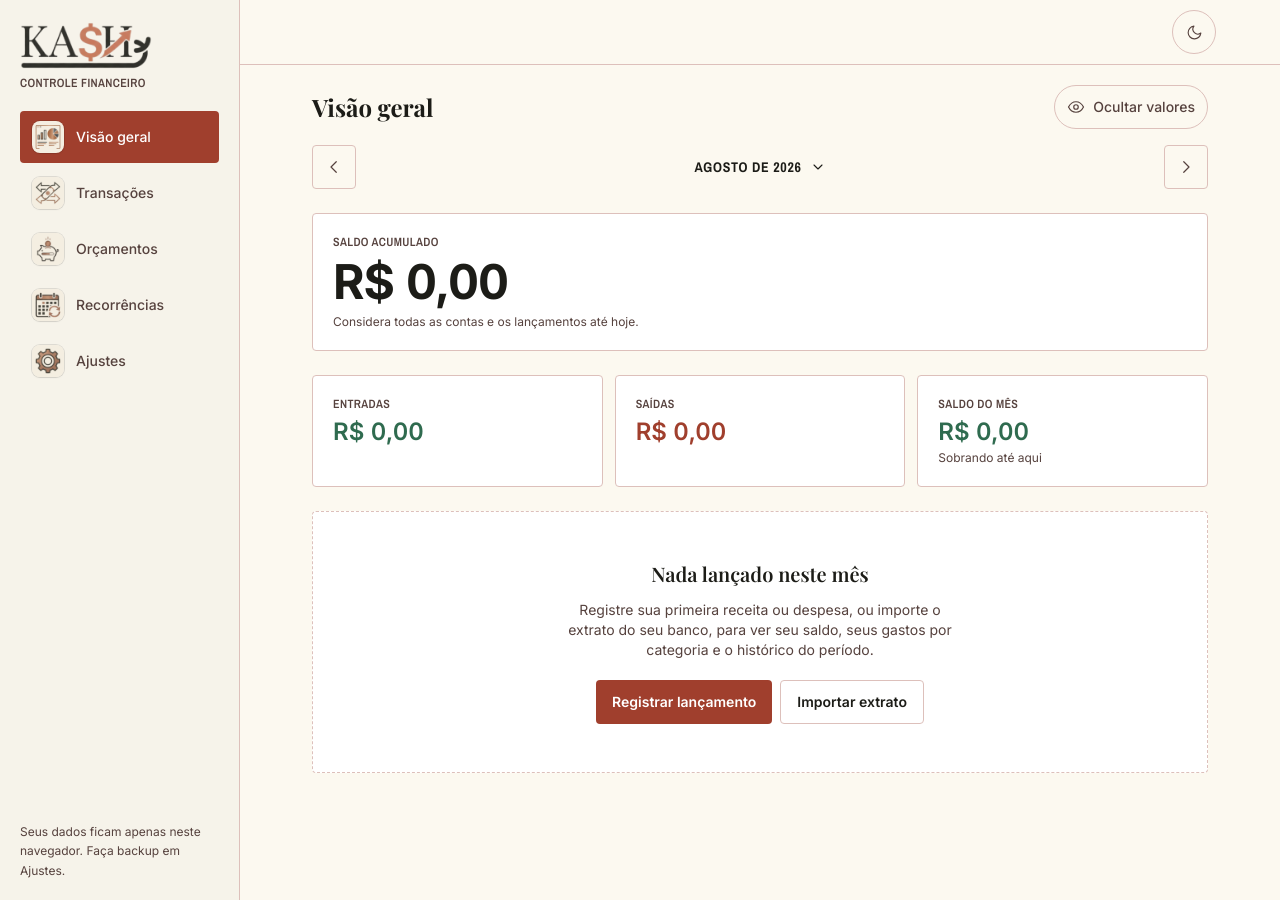
percurso completo do app › mantém o mês selecionado ao trocar de tela
This screenshot has width=1280, height=900.
Expected: the heading "Visão geral" is shown, [312,91,434,123]
Click the button named "Mês anterior" at (334, 167), box [312,145,356,189]
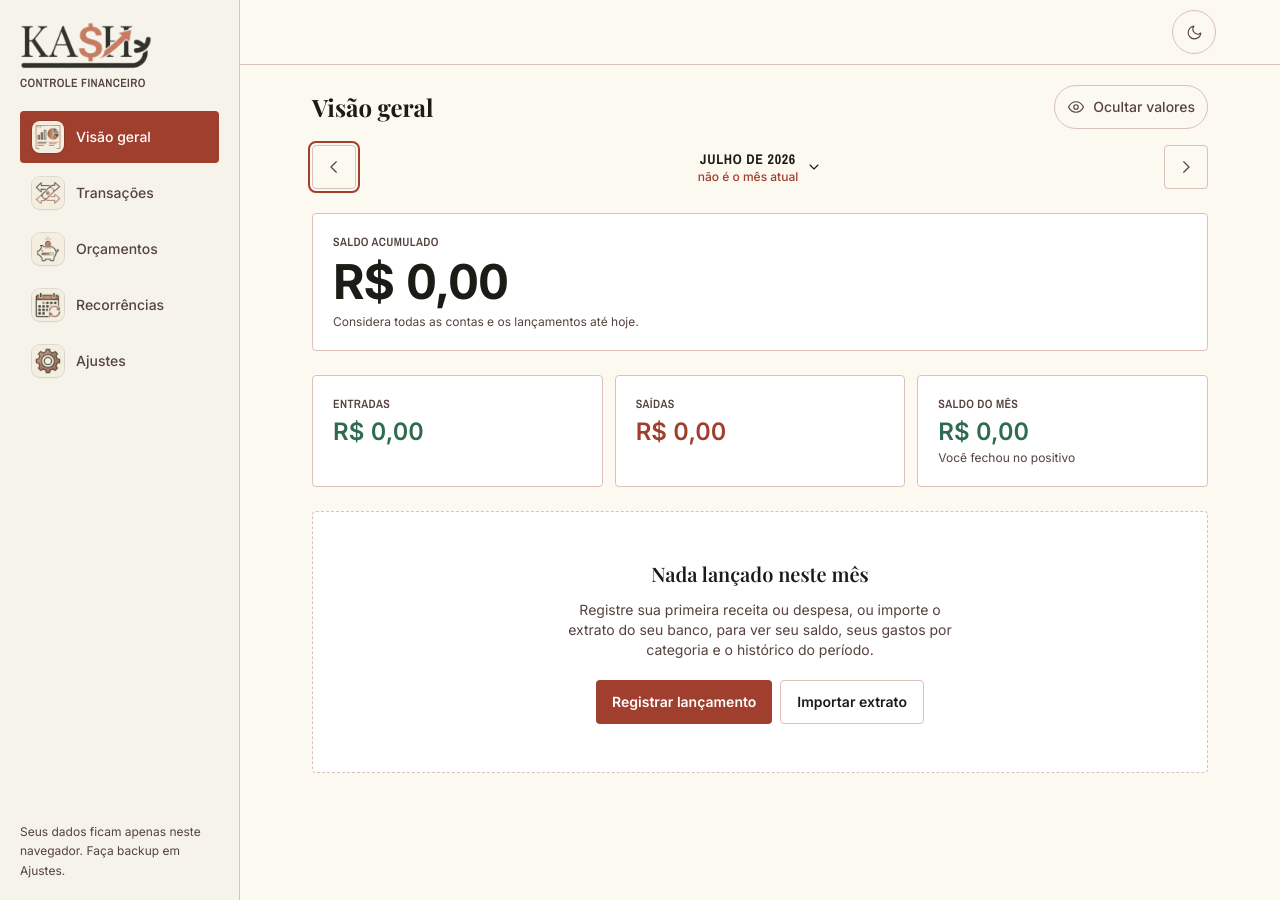
Click the link "Transações" at (93, 193), box [32,177,154,209]
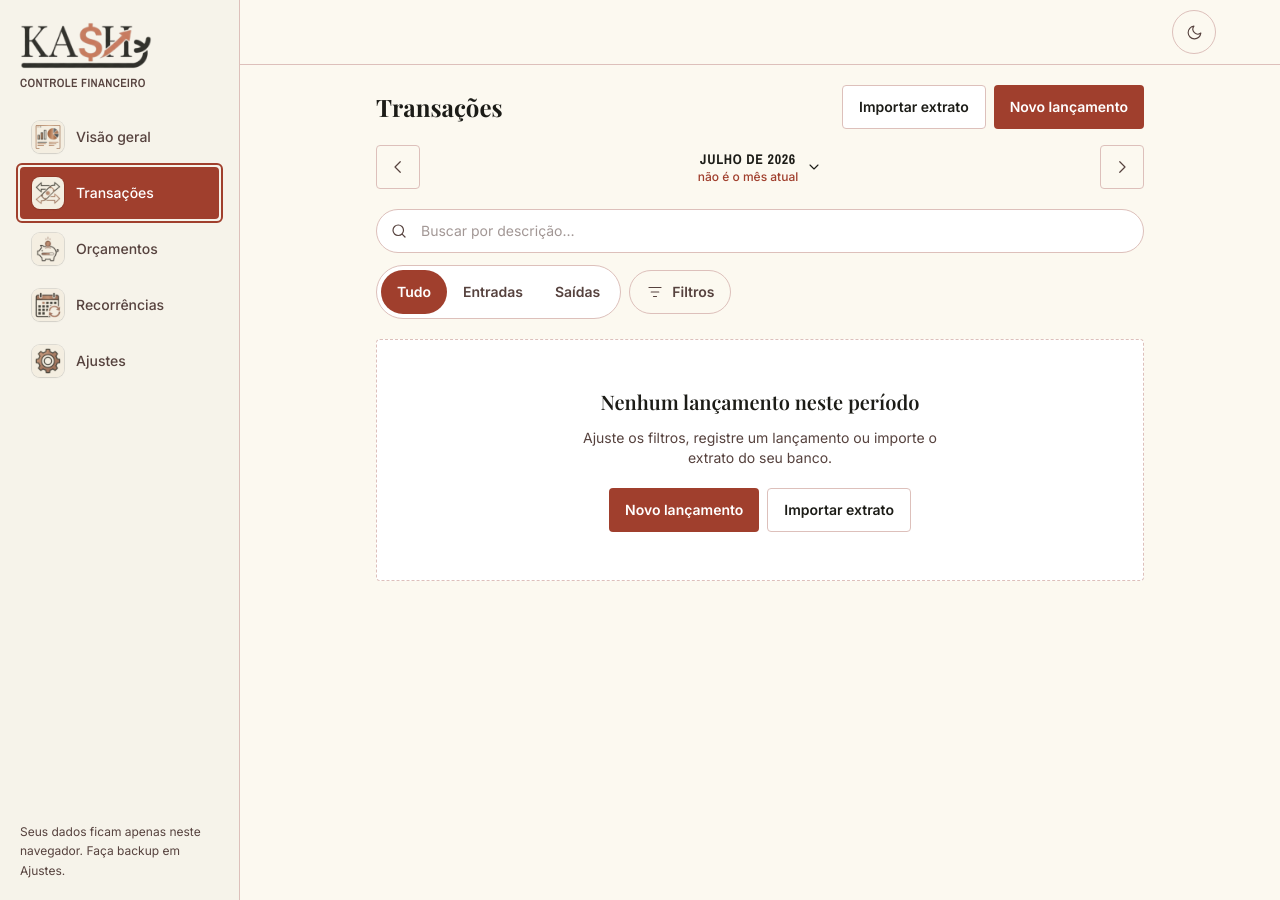
Expected: the heading "Transações" is shown, [376,91,503,123]
